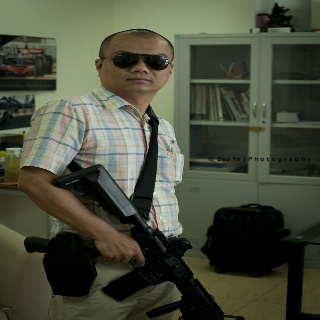rifle: (52, 162, 230, 320)
